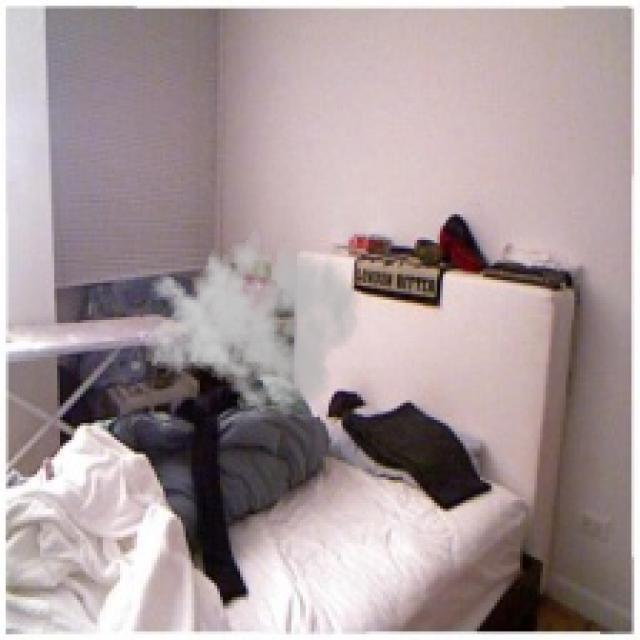Smoke: (143, 220, 360, 423)
